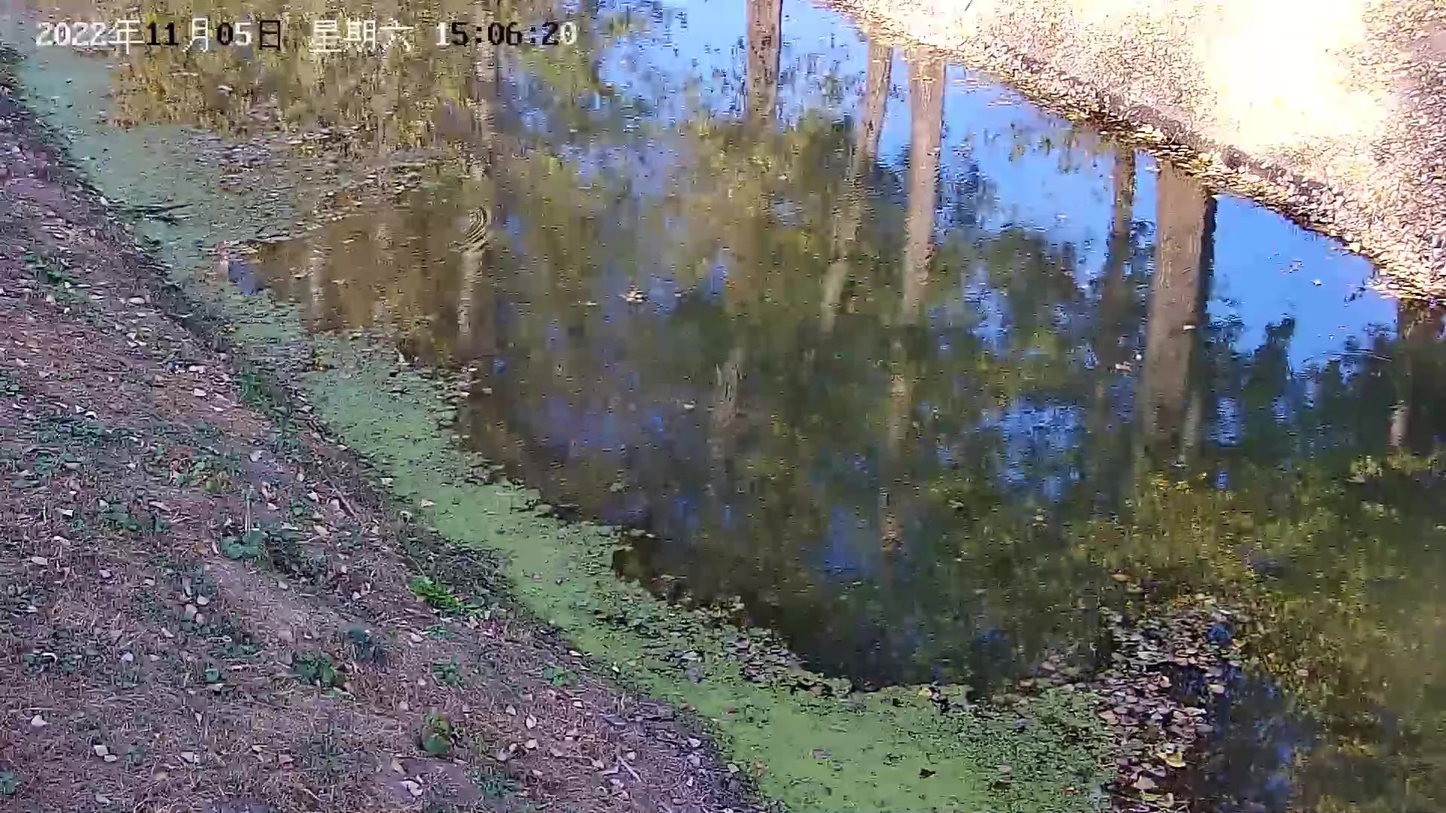floater: (187, 279, 853, 690), (2, 2, 300, 274), (664, 687, 1095, 813), (1094, 592, 1228, 813)
